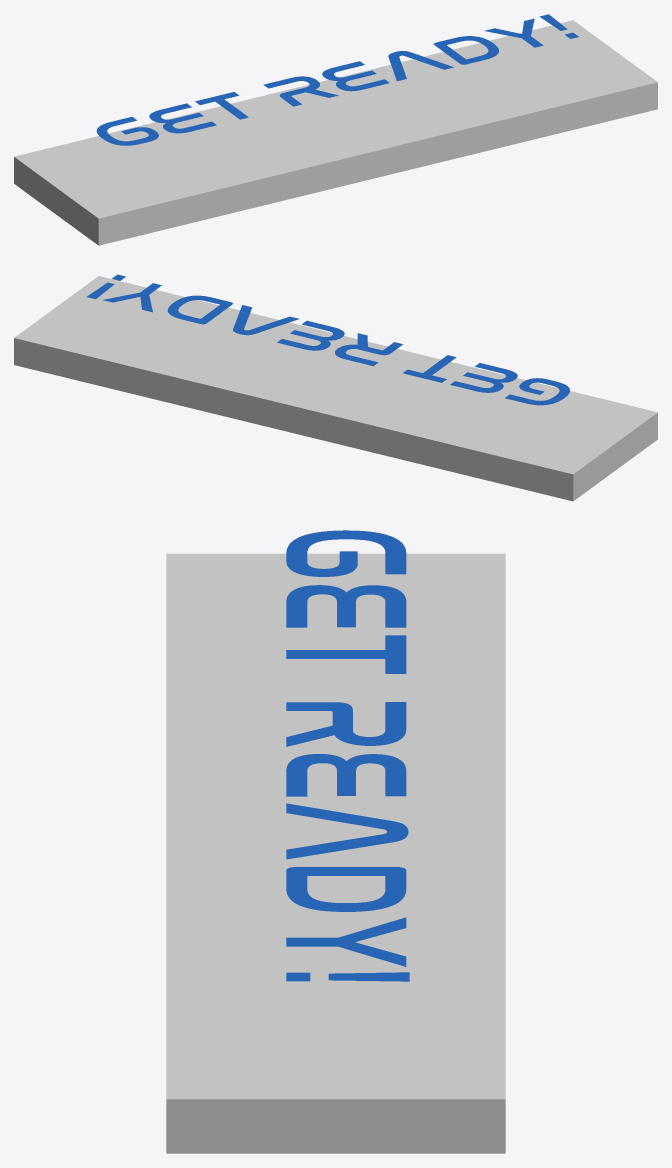
Rendered from Loading.gltf.
3 views of the same model, one above another, from view 1: azimuth 30°, elevation 25°; view 2: azimuth 150°, elevation 25°; view 3: azimuth 270°, elevation 25° (orthographic). The views are drawn at different scales.
Parts seen in each view (by area): view 1: Text; view 2: Text; view 3: Text.
Part boxes in pixels (x1,y1,x2,y2): Text: (14, 14, 657, 245); Text: (14, 274, 657, 501); Text: (166, 530, 505, 1153).
Size of the model in its own units: 6.24 by 0.6645 by 1.64.
